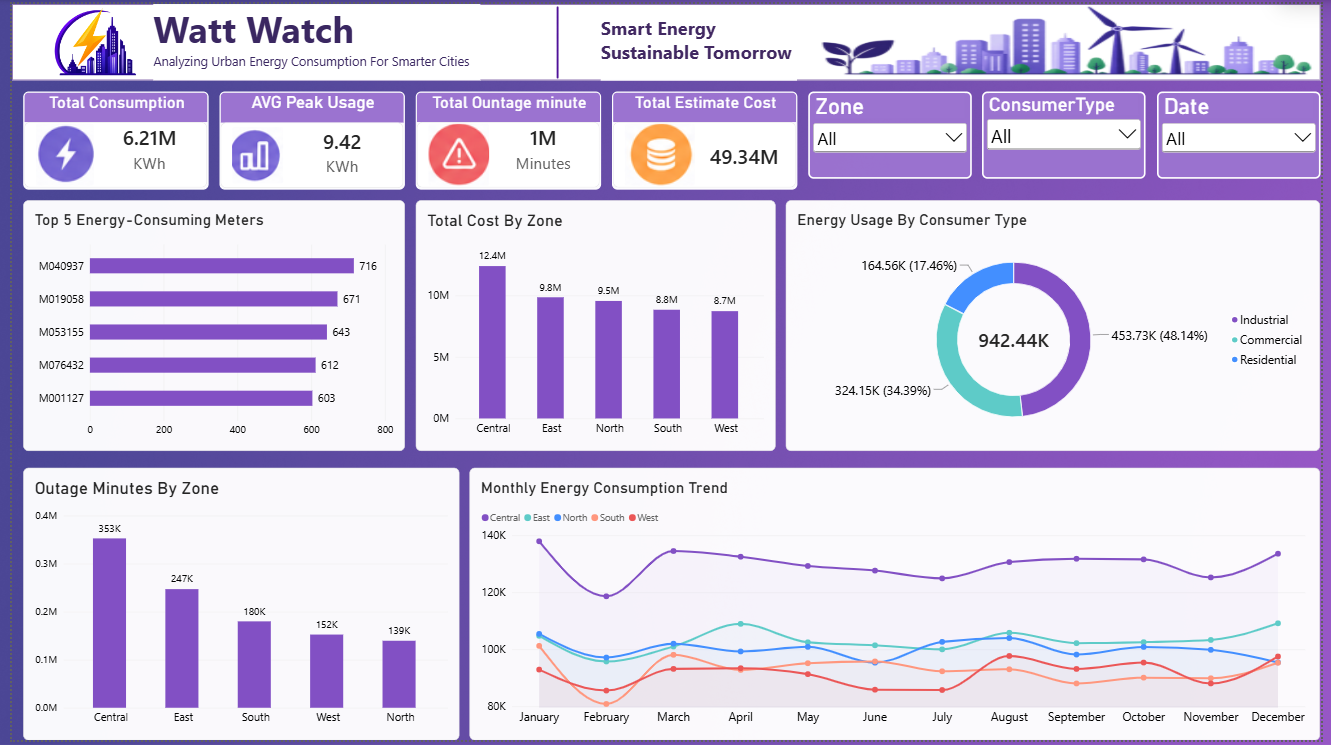

What the dashboard file says about the page in this screenshot:
{"tool":"powerbi","page":{"name":"Page 1","canvas":[1920,1080],"ordinal":0},"visuals":[{"type":"shape","box":[0,0,1920,112],"z":0},{"type":"image","box":[0,0,240,112],"z":1000},{"type":"textbox","box":[208,0,480,112],"z":2000},{"type":"image","box":[1168,0,752,112],"z":3000},{"type":"textbox","box":[864,16,288,96],"z":4000},{"type":"cardVisual","title":"Total Consumption","fields":{"Data":["MEASURES (2).Total Consumption"]},"box":[16,128,272,144],"z":5000},{"type":"cardVisual","title":"AVG Peak Usage","fields":{"Data":["MEASURES (2).Avg Peak Usage"]},"box":[304,128,272,144],"z":6000},{"type":"cardVisual","title":"Total Estimate Cost","fields":{"Data":["MEASURES (2).Total Estimated Cost"]},"box":[880,128,272,144],"z":7000},{"type":"cardVisual","title":"Total Ountage minute","fields":{"Data":["MEASURES (2).Total Ountage Minutes"]},"box":[592,128,272,144],"z":8000},{"type":"slicer","fields":{"Values":["SmartCityEnergy.Zone"]},"box":[1168,128,240,128],"z":9000},{"type":"slicer","fields":{"Values":["SmartCityEnergy.ConsumerType"]},"box":[1424,128,240,128],"z":10000},{"type":"slicer","fields":{"Values":["SmartCityEnergy.Date"]},"box":[1680,128,240,128],"z":11000},{"type":"donutChart","title":"Energy Usage By Consumer Type","fields":{"Category":["SmartCityEnergy.ConsumerType"],"Y":["Sum(SmartCityEnergy.PeakUsage_kWh)"]},"box":[1136,288,784,368],"z":12000},{"type":"clusteredBarChart","title":"Top 5 Energy-Consuming Meters","fields":{"Category":["SmartCityEnergy.MeterID"],"Y":["Sum(SmartCityEnergy.EnergyConsumed_kWh)"]},"box":[16,288,560,368],"z":13000},{"type":"clusteredColumnChart","title":"Total Cost By Zone","fields":{"Category":["SmartCityEnergy.Zone"],"Y":["MEASURES (2).Total Cost"]},"box":[592,288,528,368],"z":14000},{"type":"clusteredColumnChart","title":"Outage Minutes By Zone","fields":{"Category":["SmartCityEnergy.Zone"],"Y":["Sum(SmartCityEnergy.OutageMinutes)"]},"box":[16,680,640,400],"z":15000},{"type":"lineChart","title":"Monthly Energy Consumption Trend","fields":{"Category":["SmartCityEnergy.Date.Variation.Date Hierarchy.Month"],"Series":["SmartCityEnergy.Zone"],"Y":["Sum(SmartCityEnergy.EnergyConsumed_kWh)"]},"box":[672,680,1248,400],"z":16000},{"type":"image","box":[704,0,192,112],"z":17000}]}

Visuals, with their boxes in screenshot pixels (x1, y1, x2, y2), scaled from the page's 1920x1080 canvas onto the 1331x745 screenshot:
shape: 0 0 1330 77
image: 0 0 166 77
textbox: 144 0 477 77
image: 810 0 1330 77
textbox: 599 11 799 77
"Total Consumption" cardVisual: 11 88 200 188
"AVG Peak Usage" cardVisual: 211 88 399 188
"Total Estimate Cost" cardVisual: 610 88 799 188
"Total Ountage minute" cardVisual: 410 88 599 188
slicer - SmartCityEnergy.Zone: 810 88 976 177
slicer - SmartCityEnergy.ConsumerType: 987 88 1154 177
slicer - SmartCityEnergy.Date: 1165 88 1330 177
"Energy Usage By Consumer Type" donutChart: 788 199 1330 453
"Top 5 Energy-Consuming Meters" clusteredBarChart: 11 199 399 453
"Total Cost By Zone" clusteredColumnChart: 410 199 776 453
"Outage Minutes By Zone" clusteredColumnChart: 11 469 455 744
"Monthly Energy Consumption Trend" lineChart: 466 469 1330 744
image: 488 0 621 77
